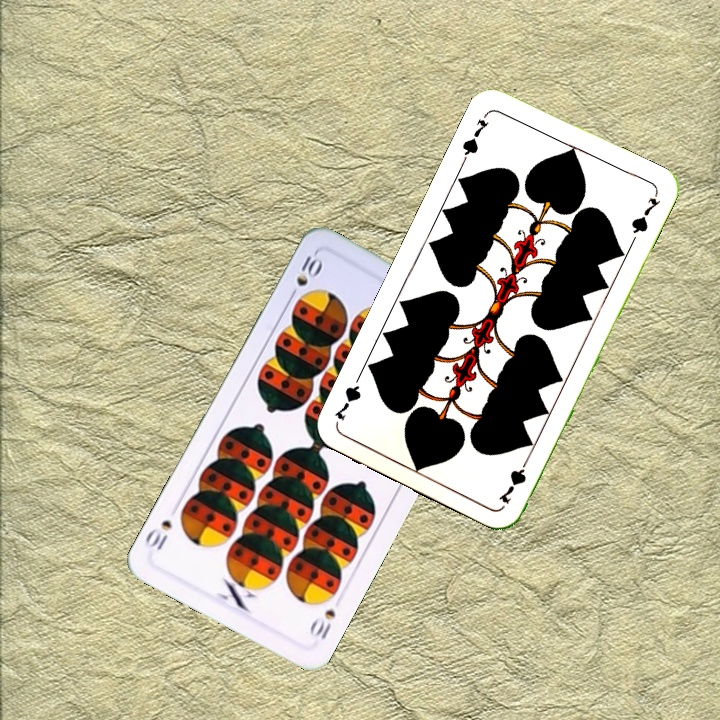G7: (494, 451, 534, 507), (458, 109, 492, 165)
S10: (284, 251, 325, 303), (305, 605, 339, 643)
